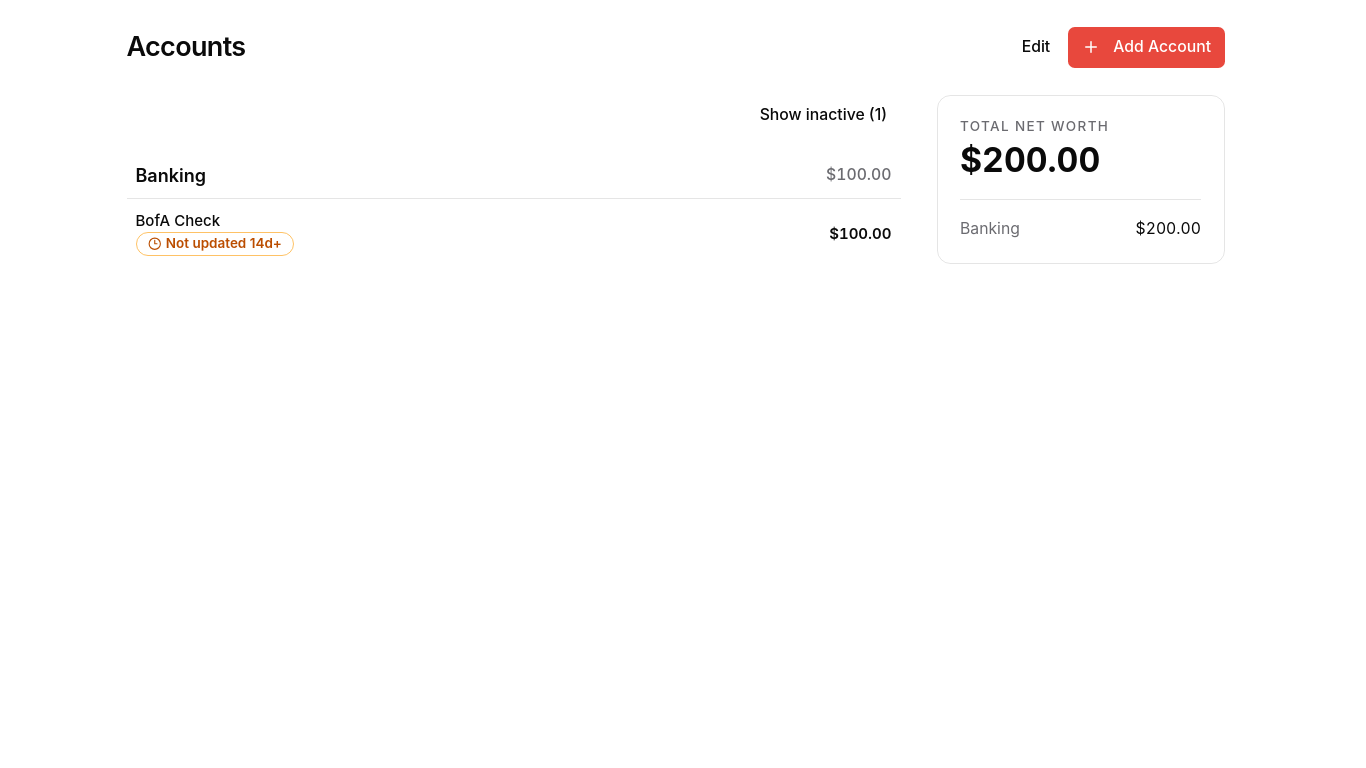
Scenario: Accounts page -- edit mode › reveals delete controls only in edit mode and confirms before deleting
expect the text "BofA Check" is shown: met, box [136,210,220,230]
// Enter edit mode → "Done" + delete controls appear.
Click the button "Edit" at (1036, 47), box [1008,27,1064,68]
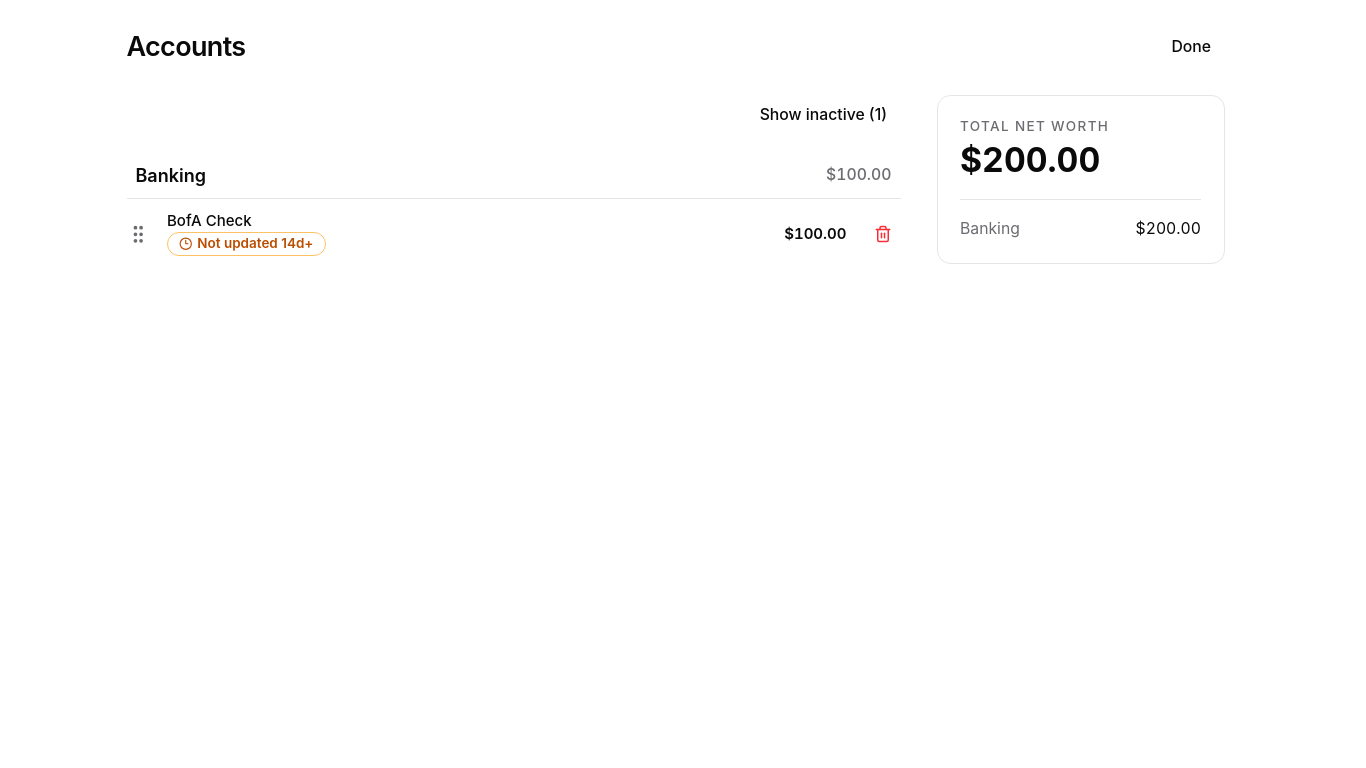
expect the button "Done" is shown: met, box [1158,27,1224,68]
// Tapping delete opens a confirm dialog (does not delete immediately).
Click the button named "delete bofa check" at (882, 234), box [864,216,900,252]
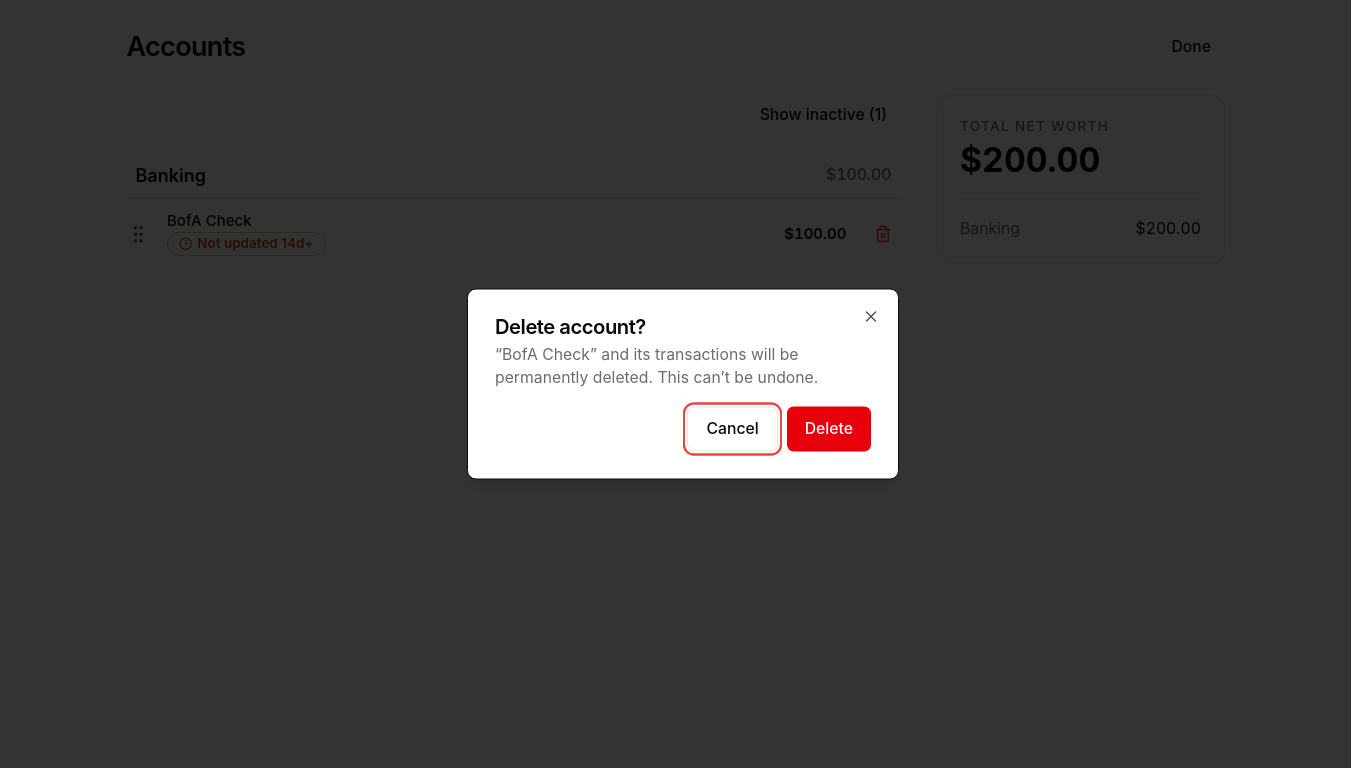
expect the heading "Delete account?" is shown: met, box [495,314,646,338]
